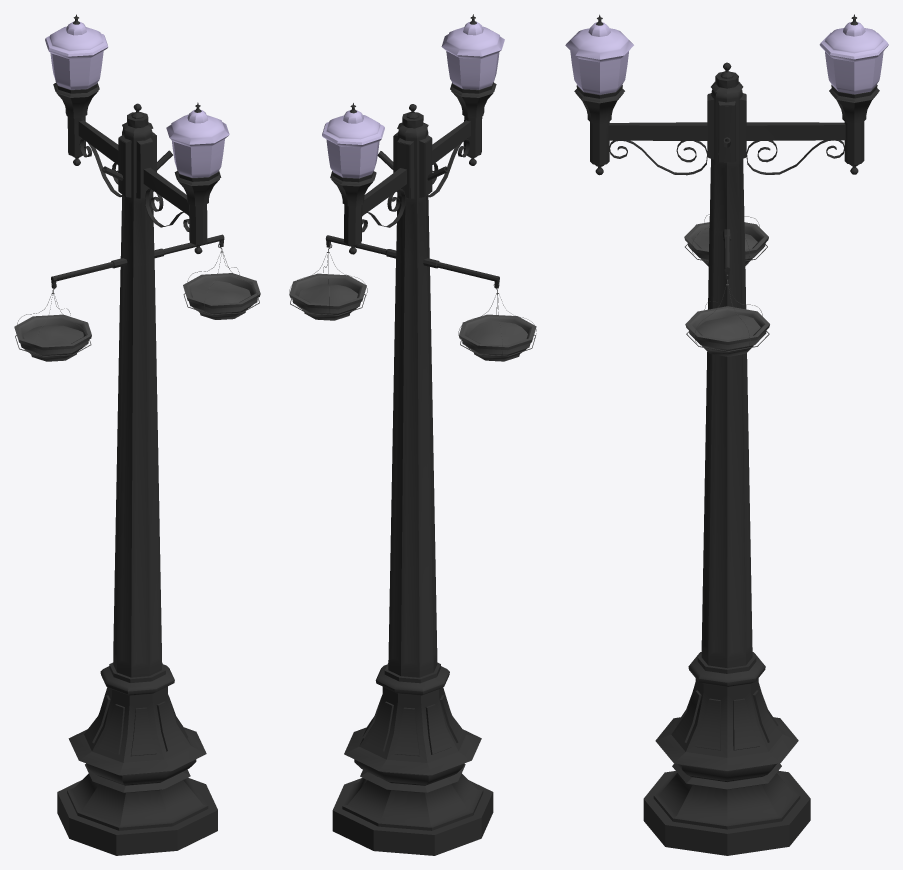
Rendered from lampara.fbx.
The picture shows the model from 3 angles, left to right: view 1: azimuth 30°, elevation 25°; view 2: azimuth 150°, elevation 25°; view 3: azimuth 270°, elevation 25°; orthographic projection. The views are drawn at different scales.
Parts seen in each view (by area): view 1: Streetlight_LowRes, Lamp_HighRes1, Lamps_LowRes2, FlowerPot_LowRes2, FlowerPot_LowRes1; view 2: Streetlight_LowRes, Lamp_HighRes1, Lamps_LowRes2, FlowerPot_LowRes1, FlowerPot_LowRes2; view 3: Streetlight_LowRes, Lamp_HighRes1, Lamps_LowRes2, FlowerPot_LowRes1, FlowerPot_LowRes2.
Part boxes in pixels (x1,y1,x2,y2): Streetlight_LowRes: [51, 14, 224, 855]; Lamp_HighRes1: [45, 21, 108, 89]; Lamps_LowRes2: [166, 109, 229, 177]; FlowerPot_LowRes2: [14, 284, 91, 361]; FlowerPot_LowRes1: [183, 242, 260, 319]; Streetlight_LowRes: [325, 14, 499, 855]; Lamp_HighRes1: [322, 110, 384, 178]; Lamps_LowRes2: [441, 21, 504, 89]; FlowerPot_LowRes1: [289, 243, 367, 320]; FlowerPot_LowRes2: [458, 284, 536, 361]; Streetlight_LowRes: [574, 14, 879, 855]; Lamp_HighRes1: [819, 22, 888, 94]; Lamps_LowRes2: [565, 22, 633, 94]; FlowerPot_LowRes1: [685, 274, 769, 356]; FlowerPot_LowRes2: [684, 214, 768, 266].
Bounding box in the file's own units: 112 × 343 × 125.
